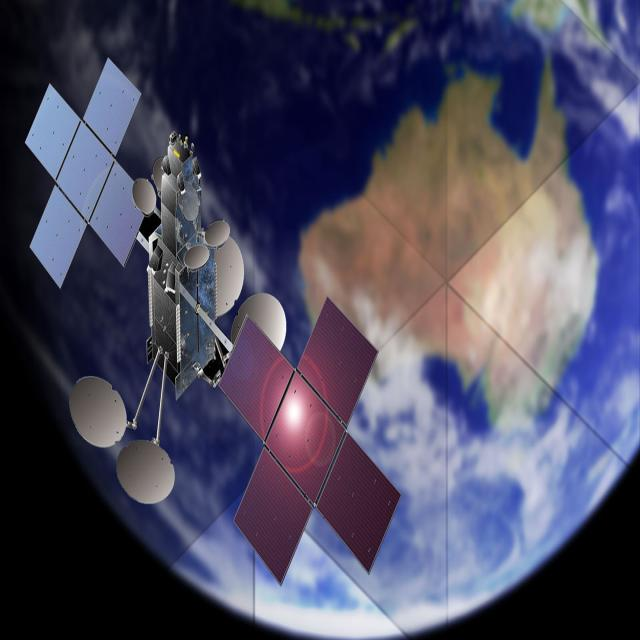medium_debris: (8, 1, 411, 610)
